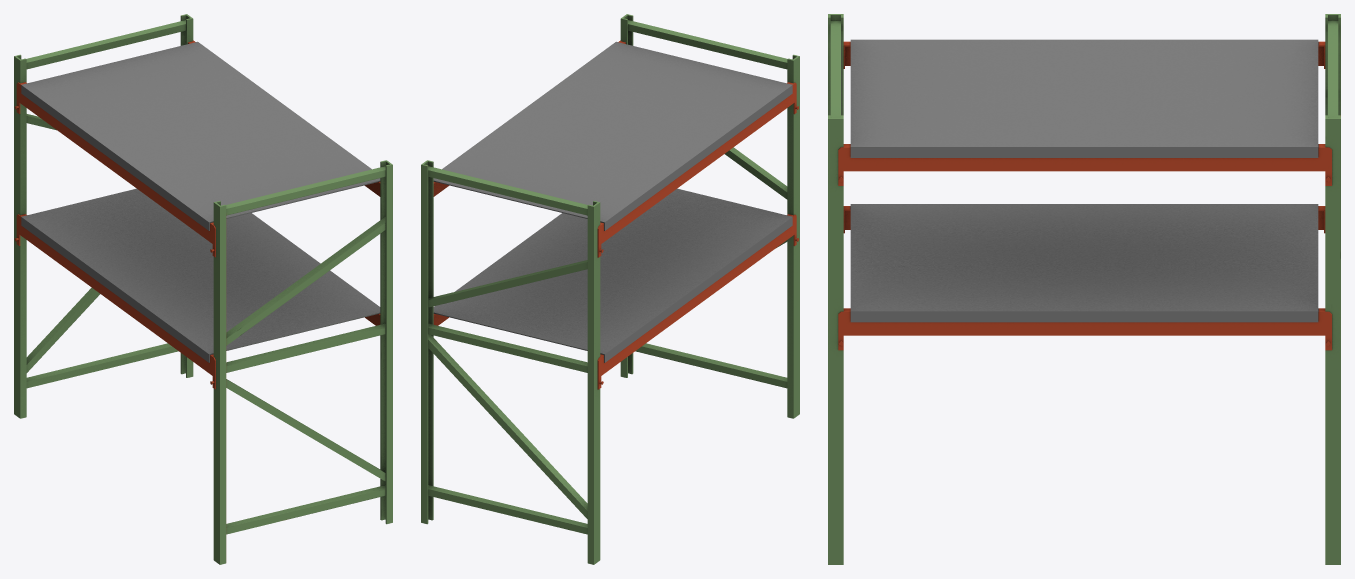
File: warehouse_shelf.glb
3 views of the same model, side by side, from view 1: azimuth 30°, elevation 25°; view 2: azimuth 150°, elevation 25°; view 3: azimuth 270°, elevation 25° (orthographic). The views are drawn at different scales.
Parts seen in each view (by area): view 1: target; view 2: target; view 3: target.
Part boxes in pixels (<box>): target: <box>14,14,392,564</box>; target: <box>421,14,799,564</box>; target: <box>828,14,1340,564</box>.
Bounding box in the file's own units: 1.25 × 2.38 × 2.48.
Materials: 1 (1 with a texture image).
